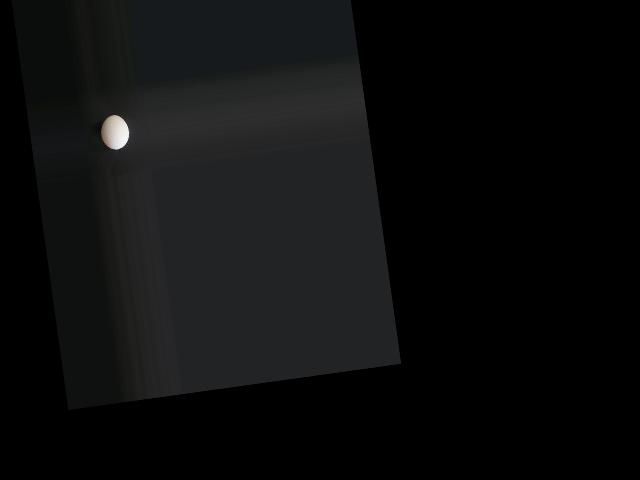egg: (98, 112, 130, 150)
